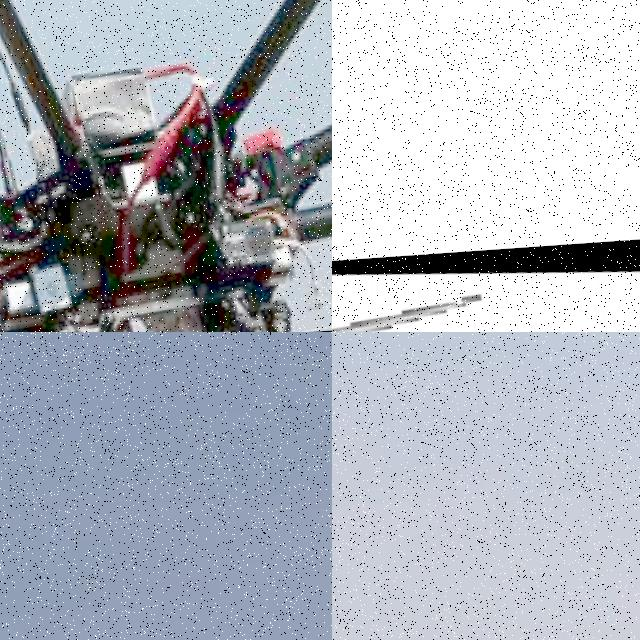drone: (0, 0, 332, 332), (332, 232, 640, 332)
